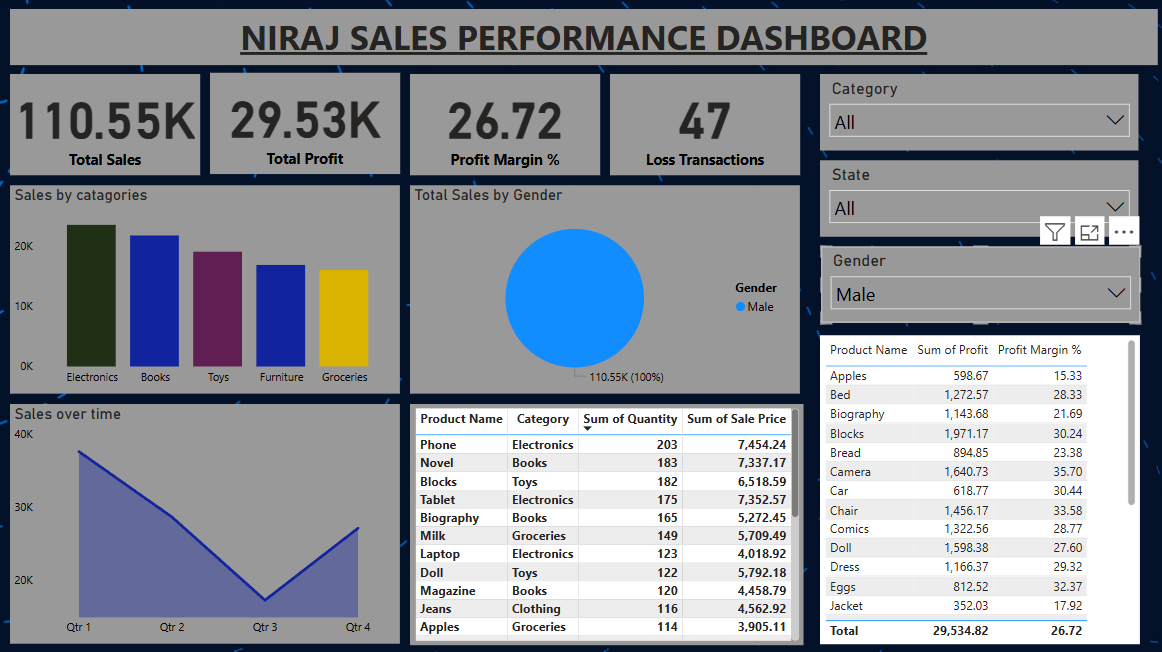

This screenshot's page, from the dashboard's own definition file:
{"tool":"powerbi","page":{"name":"Page 1","canvas":[1280,720],"ordinal":0},"visuals":[{"type":"card","fields":{"Values":["Sheet1.Total Sales"]},"box":[11,82.3,208.6,111.1],"z":0},{"type":"textbox","box":[11,11,1259.7,61.7],"z":1000},{"type":"card","fields":{"Values":["Sheet1.Total Profit"]},"box":[230.5,81,208.6,111.1],"z":2000},{"type":"card","fields":{"Values":["Sheet1.Profit Margin %"]},"box":[450.1,82.3,208.6,111.1],"z":3000},{"type":"card","fields":{"Values":["Sheet1.Loss Transactions"]},"box":[669.6,82.3,208.6,111.1],"z":4000},{"type":"lineChart","title":"Sales over time","fields":{"Category":["Sheet1.Date.Variation.Date Hierarchy.Quarter"],"Y":["Sheet1.Total Sales"]},"box":[11,444.6,428.1,263.5],"z":5000},{"type":"columnChart","title":"Sales by catagories","fields":{"Y":["Sheet1.Total Sales"],"Category":["Sheet1.Category"]},"box":[11,204.5,428.1,229.2],"z":6000},{"type":"pieChart","fields":{"Y":["Sheet1.Total Sales"],"Category":["Sheet1.Gender"]},"box":[450.1,204.5,428.1,229.2],"z":7000},{"type":"tableEx","fields":{"Values":["Sheet1.Product Name","Sheet1.Category","Sheet1.Quantity","Sheet1.Sale Price"]},"box":[450.1,444.6,432.2,264.8],"z":8000},{"type":"slicer","fields":{"Values":["Sheet1.Category"]},"box":[900.2,82.3,349.9,83.7],"z":9000},{"type":"slicer","fields":{"Values":["Sheet1.State"]},"box":[900.2,177,349.9,83.7],"z":9001},{"type":"slicer","fields":{"Values":["Sheet1.Gender"]},"box":[901.5,271.7,349.9,83.7],"z":9002},{"type":"tableEx","fields":{"Values":["Sheet1.Product Name","Sheet1.Profit","Sheet1.Profit Margin %"]},"box":[900.2,369.1,351.3,338.9],"z":9003}]}

Visuals, with their boxes in screenshot pixels (x1, y1, x2, y2), scaled from the page's 1280x720 canvas onto the 1162x652 screenshot:
card - Sheet1.Total Sales: <bbox>10, 75, 199, 175</bbox>
textbox: <bbox>10, 10, 1154, 66</bbox>
card - Sheet1.Total Profit: <bbox>209, 73, 399, 174</bbox>
card - Sheet1.Profit Margin %: <bbox>409, 75, 598, 175</bbox>
card - Sheet1.Loss Transactions: <bbox>608, 75, 797, 175</bbox>
"Sales over time" lineChart: <bbox>10, 403, 399, 641</bbox>
"Sales by catagories" columnChart: <bbox>10, 185, 399, 393</bbox>
pieChart - Sheet1.Total Sales x Sheet1.Gender: <bbox>409, 185, 797, 393</bbox>
tableEx - Sheet1.Product Name x Sheet1.Category: <bbox>409, 403, 801, 642</bbox>
slicer - Sheet1.Category: <bbox>817, 75, 1135, 150</bbox>
slicer - Sheet1.State: <bbox>817, 160, 1135, 236</bbox>
slicer - Sheet1.Gender: <bbox>818, 246, 1136, 322</bbox>
tableEx - Sheet1.Product Name x Sheet1.Profit: <bbox>817, 334, 1136, 641</bbox>
